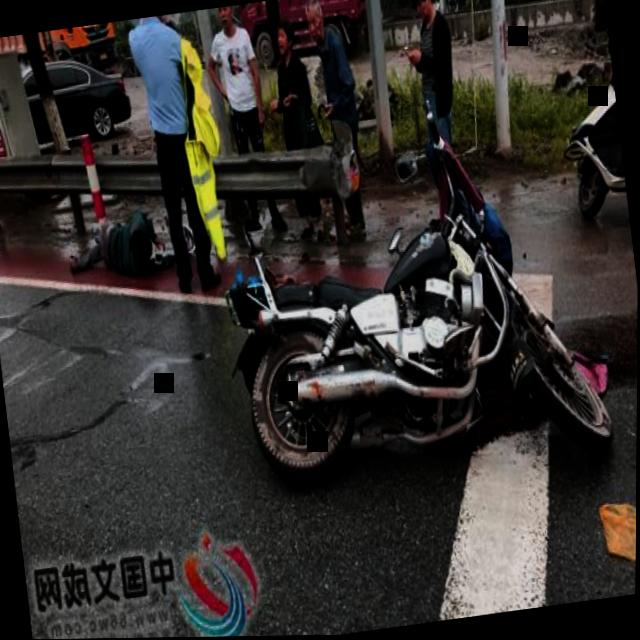Fall-Detected: (59, 190, 181, 297)
